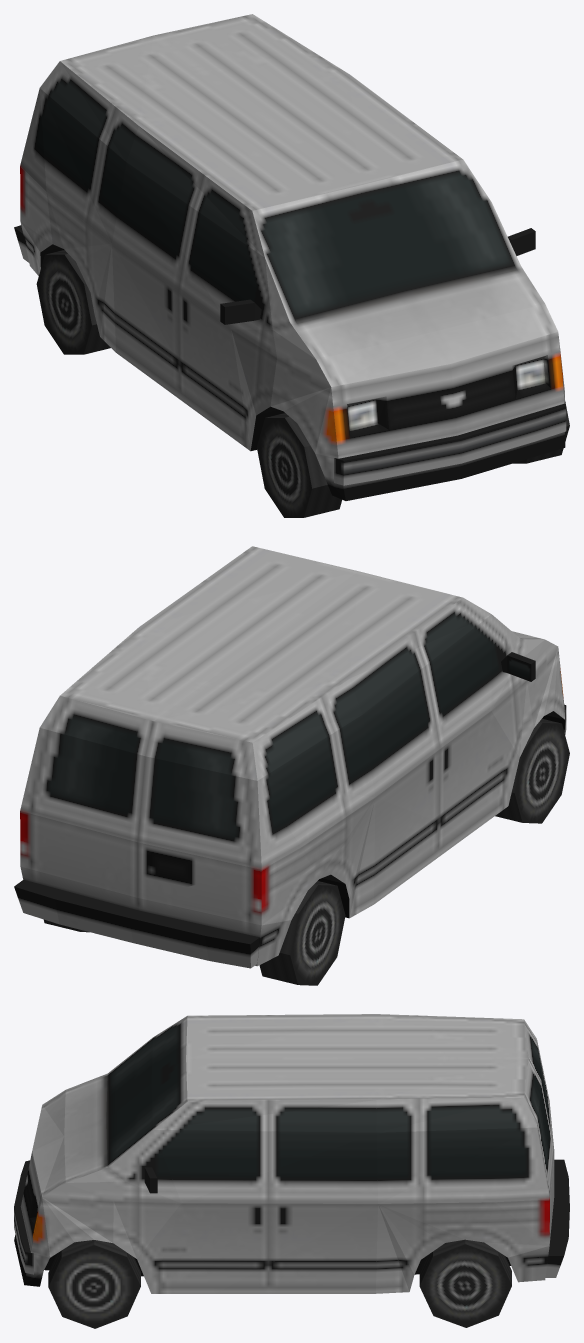
3 views of the same model, one above another, from view 1: azimuth 30°, elevation 25°; view 2: azimuth 150°, elevation 25°; view 3: azimuth 270°, elevation 25° (orthographic). The views are drawn at different scales.
Parts seen in each view (by area): view 1: psx-minivan; view 2: psx-minivan; view 3: psx-minivan.
Boxes of the visible parts, x1,y1,x2,y2 form: psx-minivan: (14,14,569,517); psx-minivan: (14,546,569,985); psx-minivan: (14,1014,569,1328).
Size of the model in its own units: 2.64 by 2.13 by 4.9.
1 material, 1 textured.
